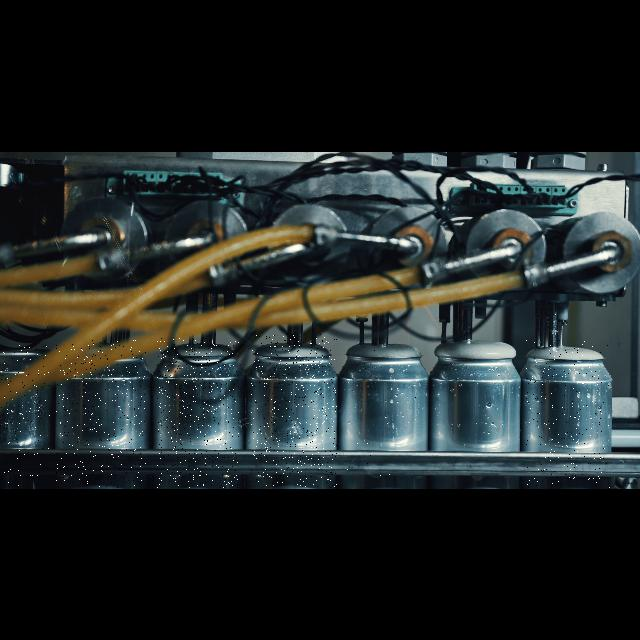empty: (56, 340, 146, 488), (0, 342, 50, 488)
full: (426, 332, 522, 488), (251, 334, 337, 488), (526, 340, 610, 488), (157, 338, 239, 488), (346, 338, 424, 488)
